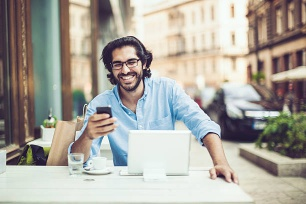male: (102, 38, 151, 94)
